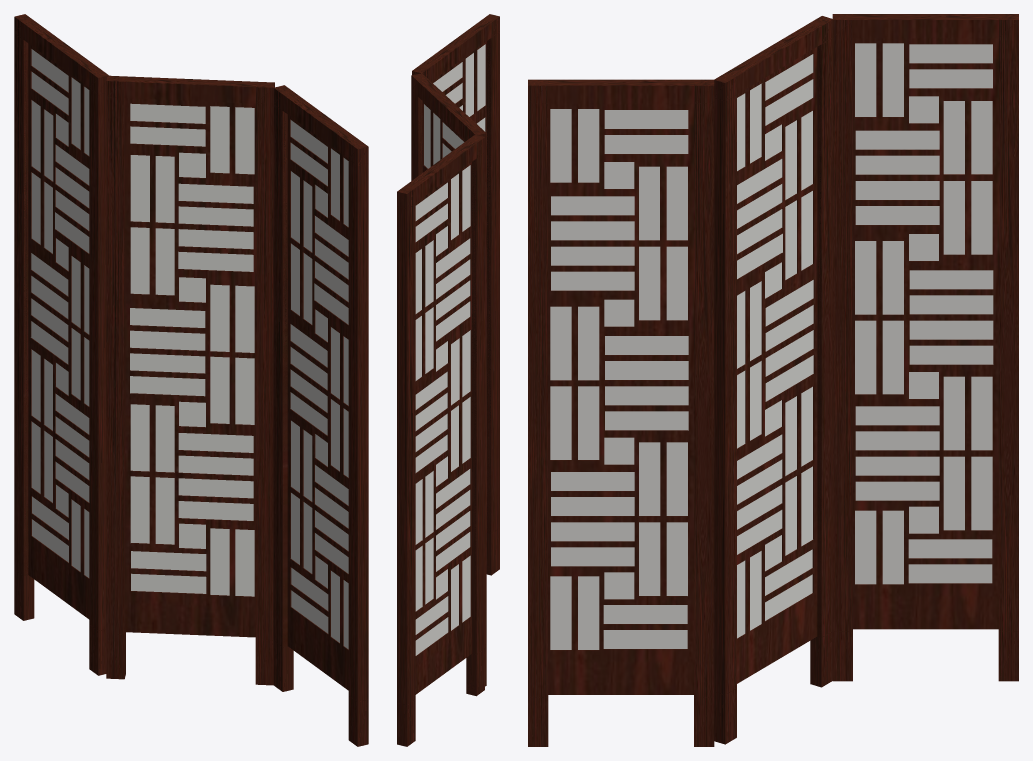
The model's file is parav2.fbx.
The picture shows the model from 3 angles, left to right: view 1: azimuth 30°, elevation 25°; view 2: azimuth 150°, elevation 25°; view 3: azimuth 270°, elevation 25°; orthographic projection. The views are drawn at different scales.
Parts seen in each view (by area): view 1: Cube.002, Cube.004, Cube.003; view 2: Cube.003, Cube.004, Cube.002; view 3: Cube.004, Cube.003, Cube.002.
Boxes of the visible parts, x1,y1,x2,y2 form: Cube.002: [106, 75, 274, 685]; Cube.004: [273, 85, 368, 746]; Cube.003: [14, 14, 108, 675]; Cube.003: [397, 135, 484, 746]; Cube.004: [412, 14, 499, 575]; Cube.002: [411, 73, 486, 686]; Cube.004: [528, 79, 714, 746]; Cube.003: [832, 14, 1018, 681]; Cube.002: [714, 16, 832, 744].
Bounding box in the file's own units: 39.35 × 170 × 114.
2 materials, 2 textured.
